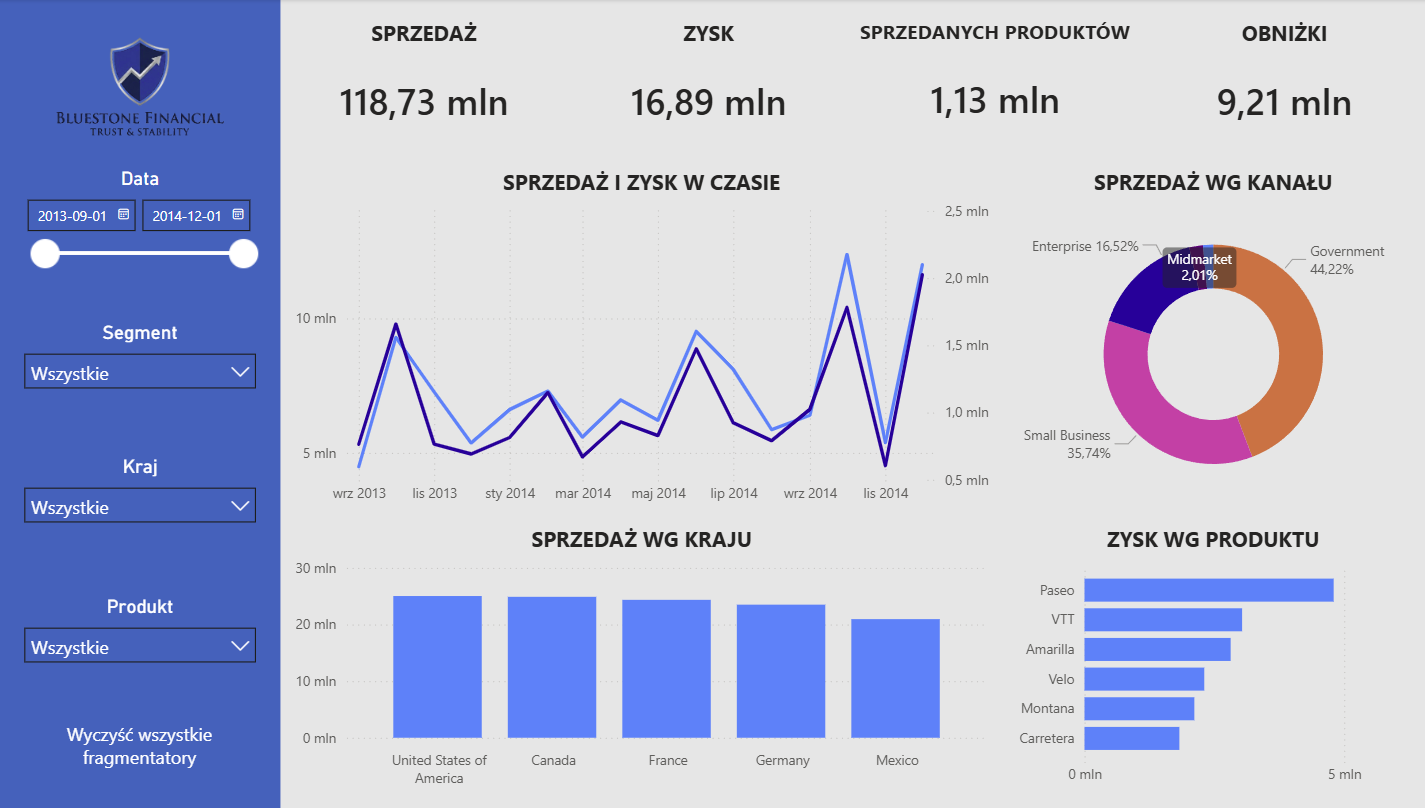

The dashboard page shown, as its layout file describes it:
{"tool":"powerbi","page":{"name":"Strona 1","canvas":[1280,720],"ordinal":0},"visuals":[{"type":"shape","box":[9,0,250,720],"z":0},{"type":"slicer","title":"Kraj","fields":{"Values":["financials.Country"]},"box":[21,405,226,80],"z":1000},{"type":"slicer","title":"Data","fields":{"Values":["financials.Date"]},"box":[21,149,226,119],"z":2000},{"type":"slicer","title":"Segment","fields":{"Values":["financials.Segment"]},"box":[21,286,226,74],"z":3000},{"type":"slicer","title":"Produkt","fields":{"Values":["financials.Product"]},"box":[21,530,226,66],"z":4000},{"type":"image","box":[15,6,238,143],"z":5000},{"type":"cardVisual","title":"SPRZEDAŻ","fields":{"Data":["Sum(financials.Sales)"]},"box":[259,17,256,119],"z":6000},{"type":"cardVisual","title":"ZYSK","fields":{"Data":["Sum(financials.Profit)"]},"box":[515,17,250,119],"z":7000},{"type":"cardVisual","title":"SPRZEDANYCH PRODUKTÓW","fields":{"Data":["Sum(financials.Units Sold)"]},"box":[765,17,258,119],"z":8000},{"type":"cardVisual","title":"OBNIŻKI","fields":{"Data":["Sum(financials.Discounts)"]},"box":[1023,17,257,119],"z":9000},{"type":"lineChart","title":"SPRZEDAŻ I ZYSK W CZASIE","fields":{"Category":["financials.Date"],"Y":["Sum(financials.Sales)"],"Y2":["Sum(financials.Profit)"]},"box":[267,149,627,308],"z":10000},{"type":"columnChart","title":"SPRZEDAŻ WG KRAJU","fields":{"Category":["financials.Country"],"Y":["Sum(financials.Sales)"]},"box":[267,467,627,241],"z":11000},{"type":"donutChart","title":"SPRZEDAŻ WG KANAŁU","fields":{"Category":["financials.Segment"],"Y":["Sum(financials.Sales)"]},"box":[906,149,365,308],"z":12000},{"type":"barChart","title":"ZYSK WG PRODUKTU","fields":{"Category":["financials.Product"],"Y":["Sum(financials.Profit)"]},"box":[906,467,365,241],"z":13000},{"type":"actionButton","box":[34,638,200,50],"z":14000}]}

Visuals, with their boxes in screenshot pixels (x1, y1, x2, y2), scaled from the page's 1280x720 canvas onto the 1425x808 screenshot:
shape: {"x1": 10, "y1": 0, "x2": 288, "y2": 807}
"Kraj" slicer: {"x1": 23, "y1": 454, "x2": 275, "y2": 544}
"Data" slicer: {"x1": 23, "y1": 167, "x2": 275, "y2": 301}
"Segment" slicer: {"x1": 23, "y1": 321, "x2": 275, "y2": 404}
"Produkt" slicer: {"x1": 23, "y1": 595, "x2": 275, "y2": 669}
image: {"x1": 17, "y1": 7, "x2": 282, "y2": 167}
"SPRZEDAŻ" cardVisual: {"x1": 288, "y1": 19, "x2": 573, "y2": 153}
"ZYSK" cardVisual: {"x1": 573, "y1": 19, "x2": 852, "y2": 153}
"SPRZEDANYCH PRODUKTÓW" cardVisual: {"x1": 852, "y1": 19, "x2": 1139, "y2": 153}
"OBNIŻKI" cardVisual: {"x1": 1139, "y1": 19, "x2": 1424, "y2": 153}
"SPRZEDAŻ I ZYSK W CZASIE" lineChart: {"x1": 297, "y1": 167, "x2": 995, "y2": 513}
"SPRZEDAŻ WG KRAJU" columnChart: {"x1": 297, "y1": 524, "x2": 995, "y2": 795}
"SPRZEDAŻ WG KANAŁU" donutChart: {"x1": 1009, "y1": 167, "x2": 1415, "y2": 513}
"ZYSK WG PRODUKTU" barChart: {"x1": 1009, "y1": 524, "x2": 1415, "y2": 795}
actionButton: {"x1": 38, "y1": 716, "x2": 261, "y2": 772}
